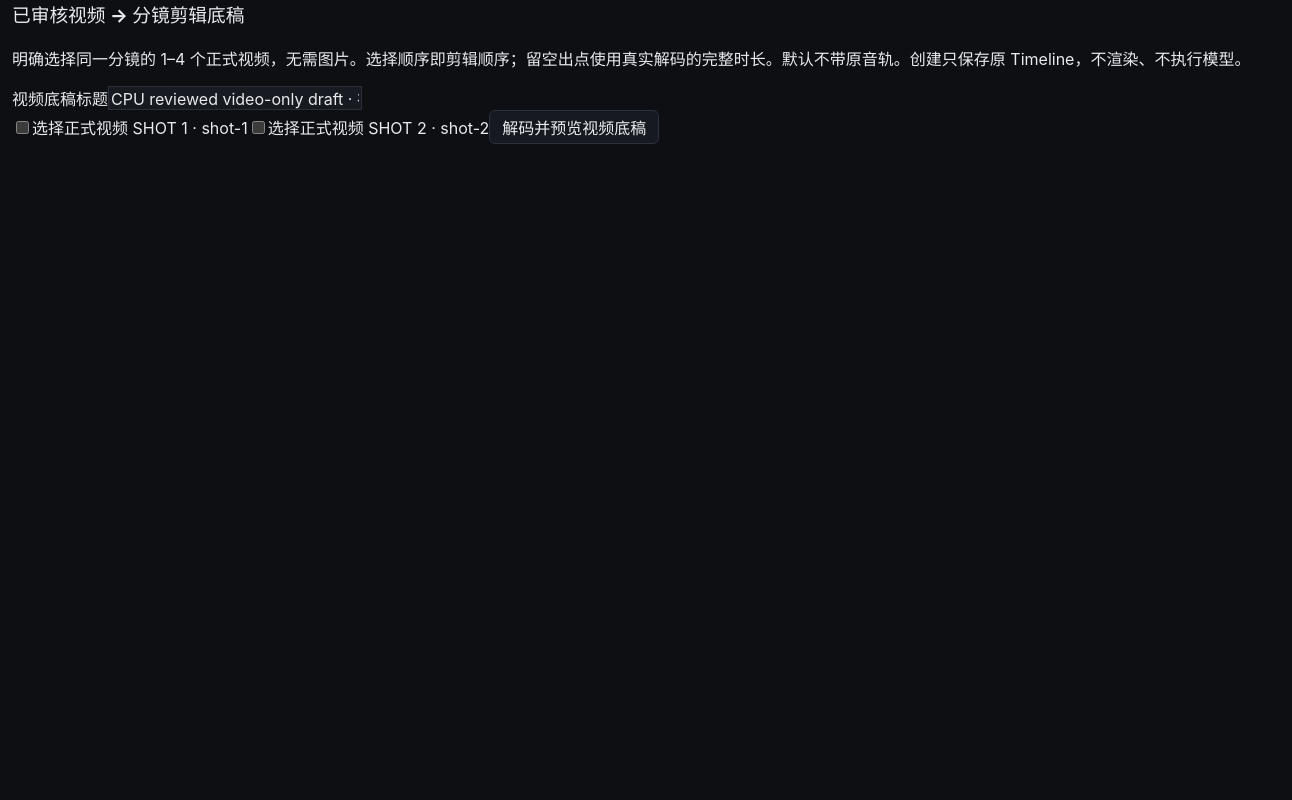
keeps preview and Save across the original perform-owned busy envelope
Click the checkbox labelled "选择正式视频 SHOT 2 · shot-2".
click(258, 127)  # box [252,121,265,134]
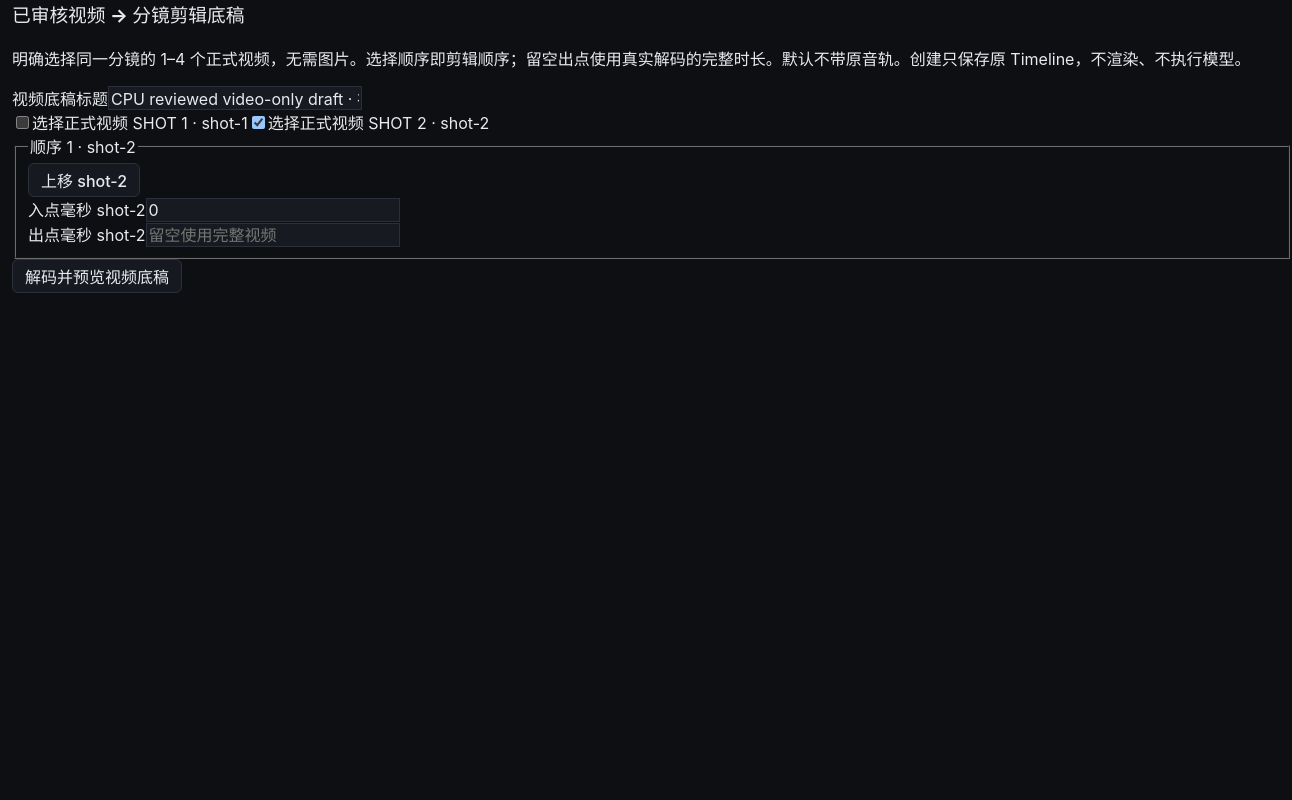
Click the checkbox labelled "选择正式视频 SHOT 1 · shot-1".
click(22, 122)  # box [16,116,29,129]
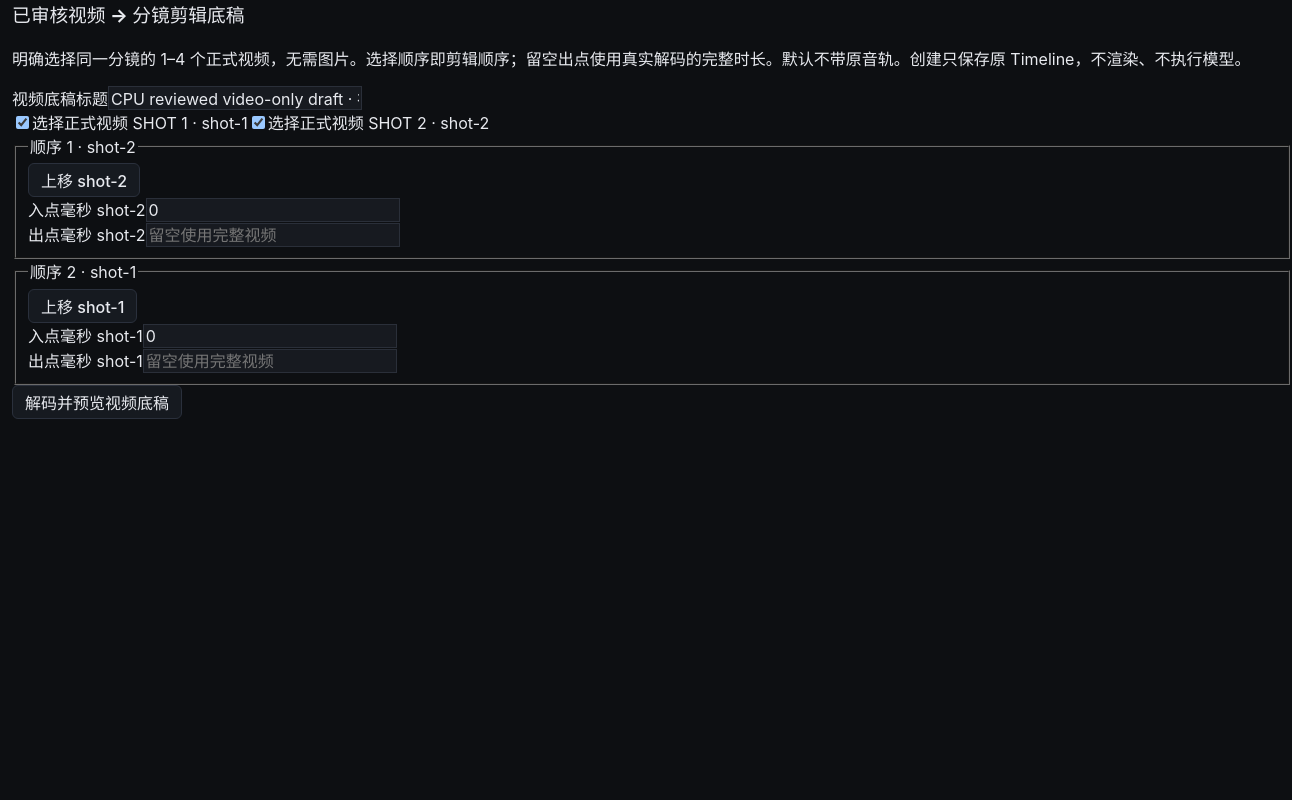
Click the button "解码并预览视频底稿".
click(97, 402)  # box [12,385,182,419]
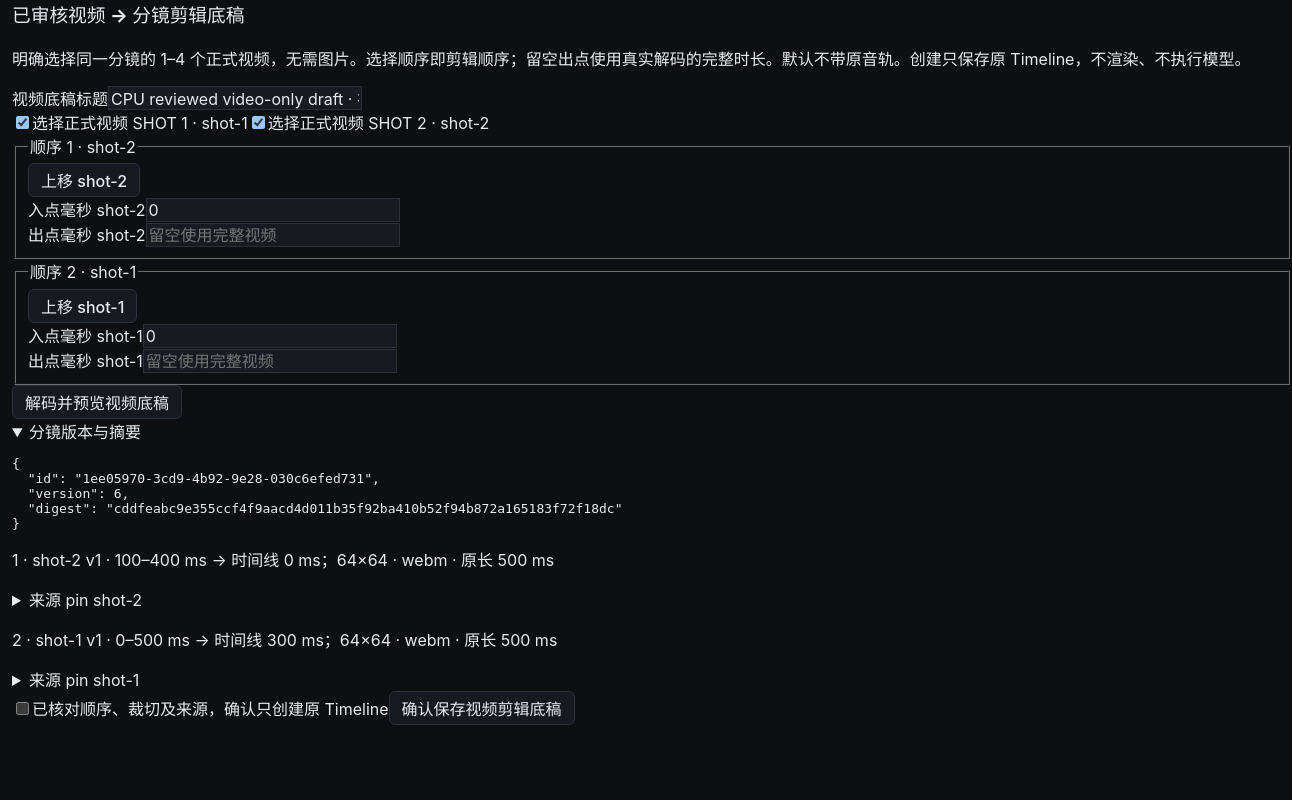
Click the checkbox labelled "已核对顺序、裁切及来源，确认只创建原 Timeline".
click(22, 708)  # box [16,702,29,715]
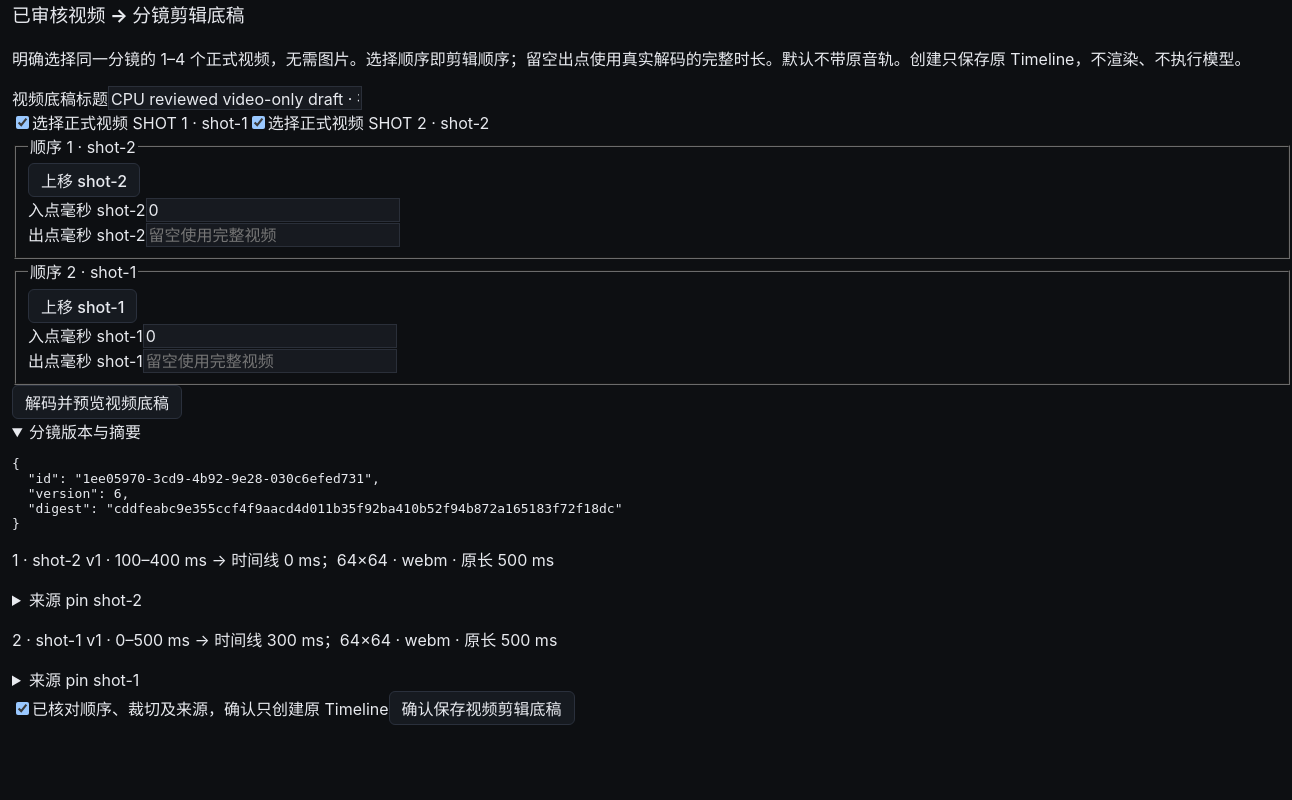
Click the button "确认保存视频剪辑底稿".
click(482, 708)  # box [389,691,575,725]
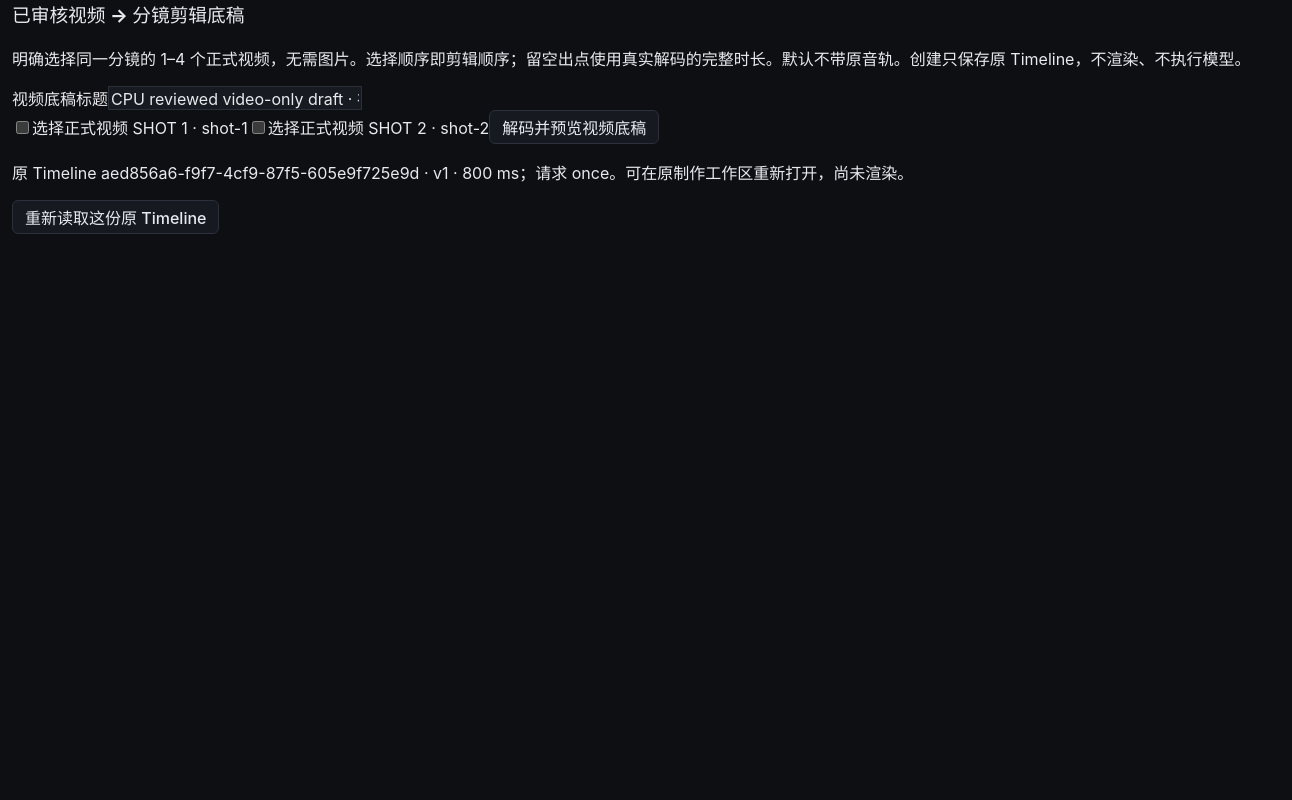
Expected: the element named "已保存的视频分镜底稿" is shown, [12,163,913,234]
